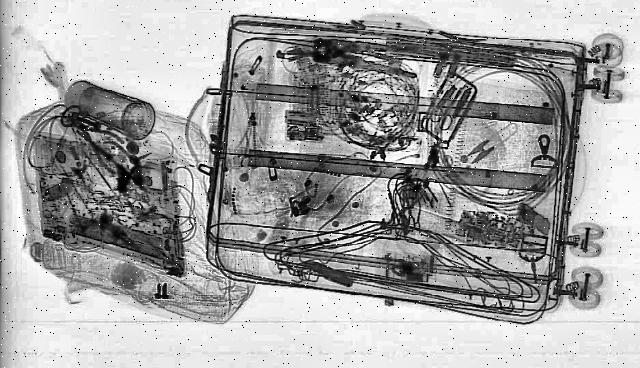Pliers: (301, 36, 431, 80)
